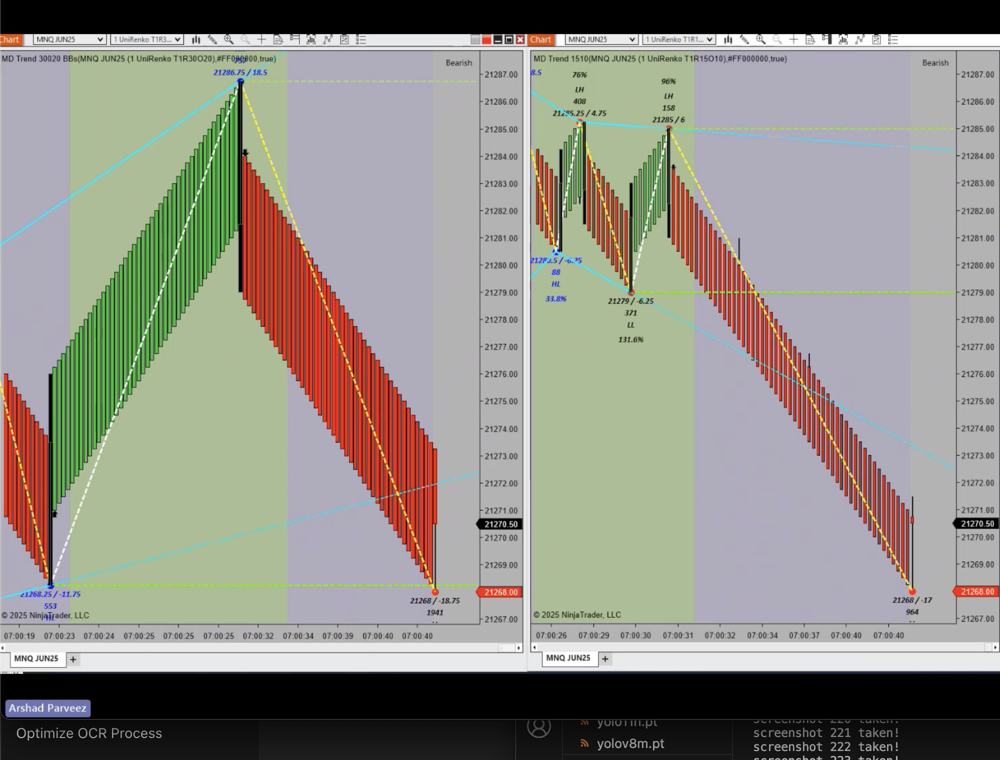HL: (544, 276, 568, 292)
LH: (656, 82, 684, 106), (569, 80, 593, 98)
LL: (617, 315, 646, 337)
